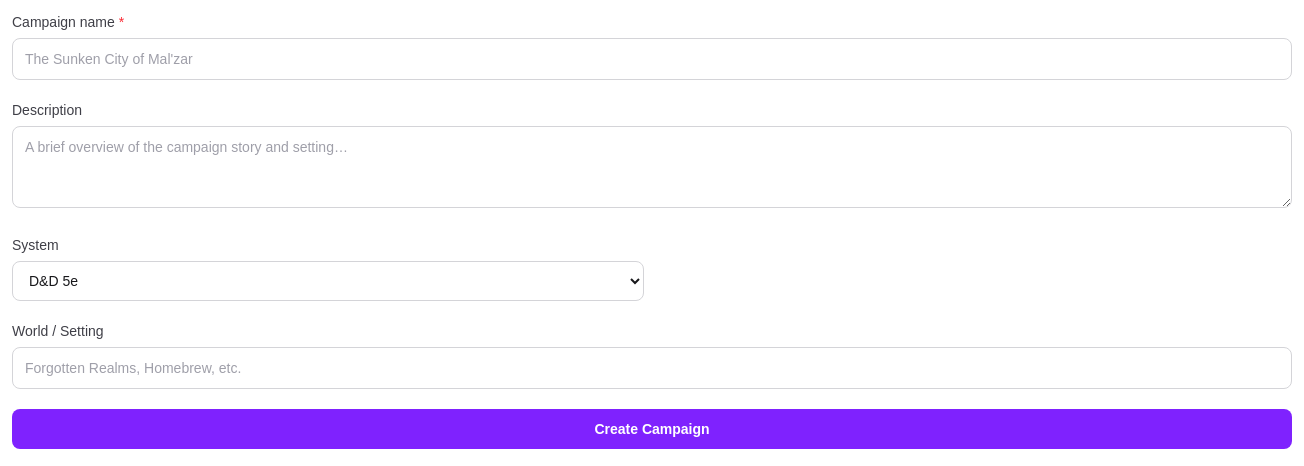
CampaignForm › disables submit button while action is pending
This screenshot has width=1304, height=466.
Type "Test" into the field with placeholder "The Sunken City of Mal'zar".
click(652, 59); type("Test")  # box [12, 38, 1292, 80]
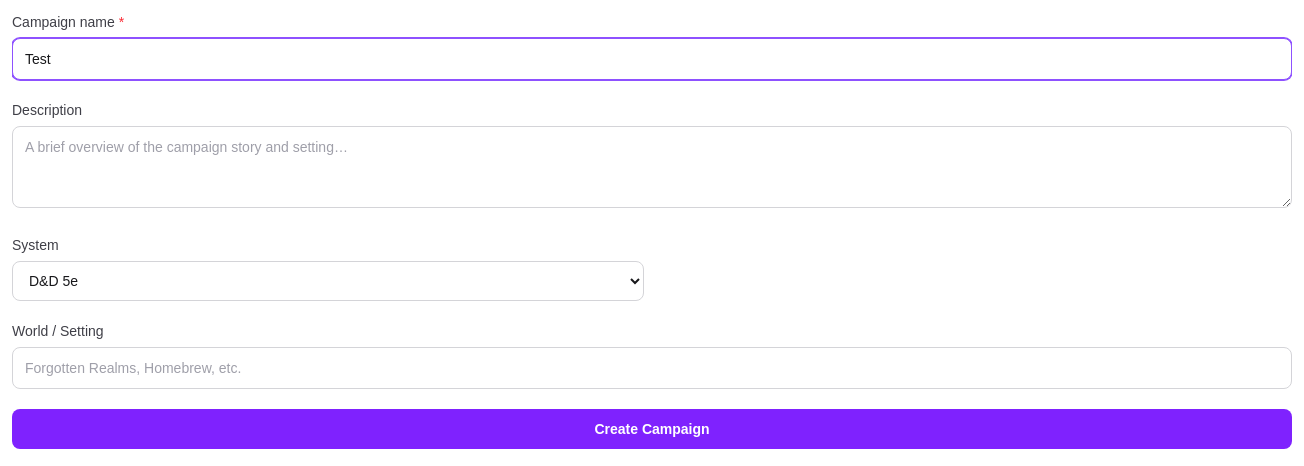
Click the button "Create Campaign".
click(652, 429)  # box [12, 409, 1292, 449]
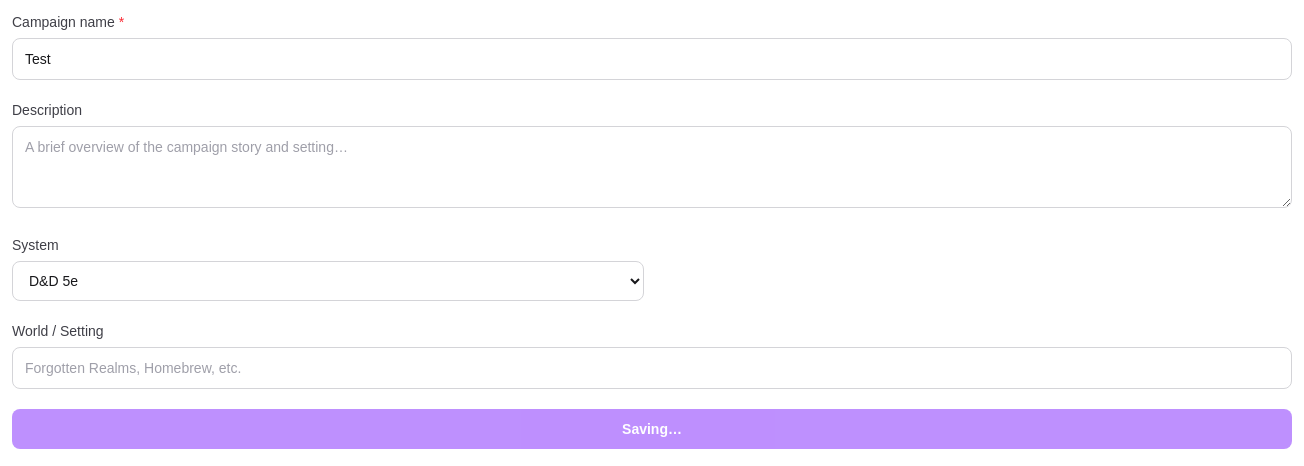
Now the button is disabled, box [12, 409, 1292, 449]
